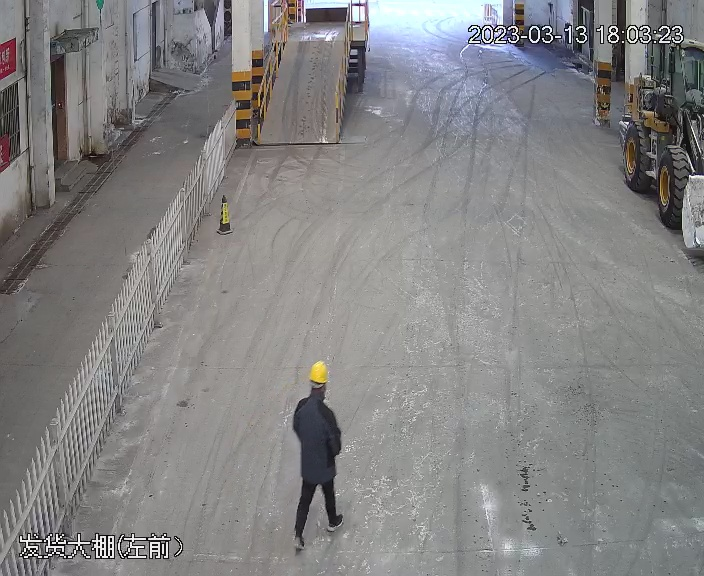head: (293, 360, 337, 422)
helmet: (308, 360, 331, 383)
people: (289, 357, 346, 548)
